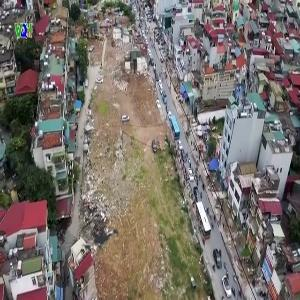drone: (68, 205, 142, 279)
